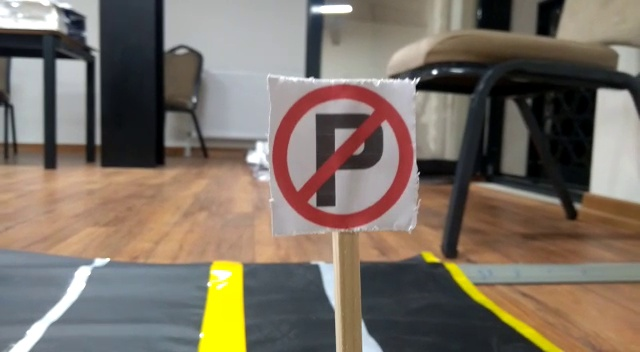park_yapilmaz: (270, 78, 418, 233)
